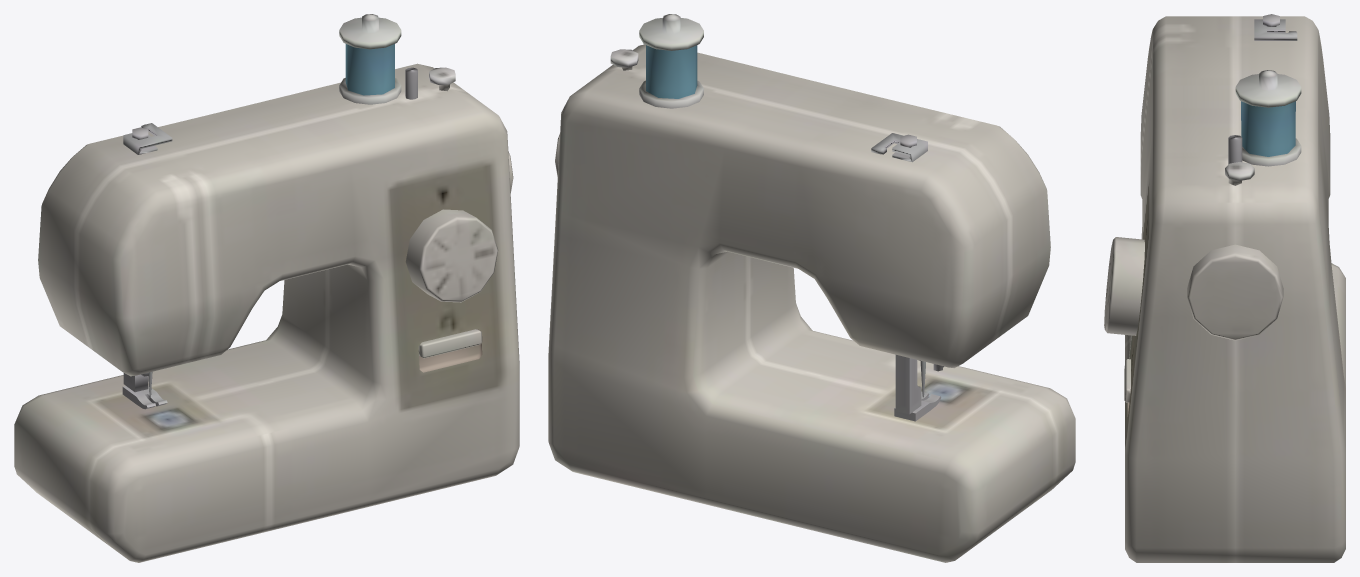
3 views of the same model, side by side, from view 1: azimuth 30°, elevation 25°; view 2: azimuth 150°, elevation 25°; view 3: azimuth 270°, elevation 25° (orthographic). The views are drawn at different scales.
Size of the model in its own units: 7.62 by 7.27 by 3.48.
Materials: 1 (1 with a texture image).
